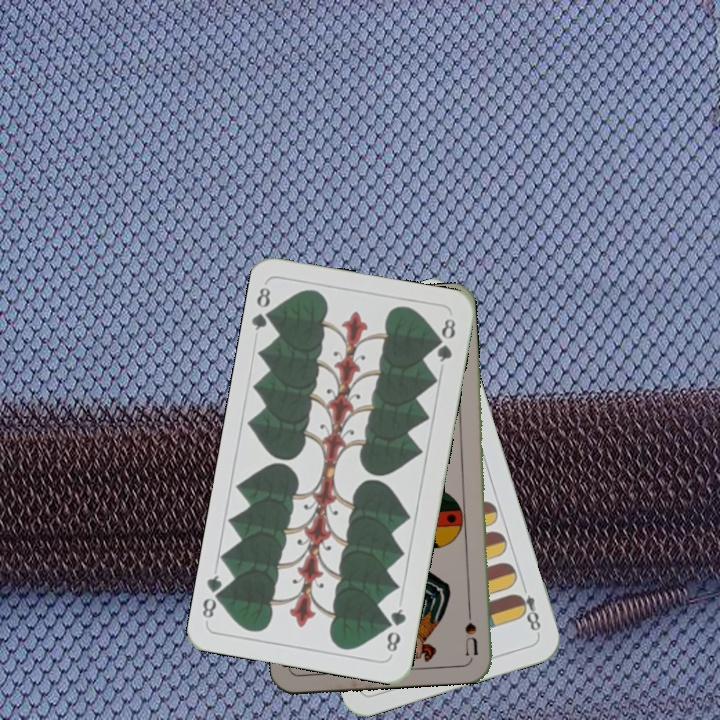E8: (511, 579, 544, 637)
G8: (248, 283, 279, 333), (382, 604, 409, 655)
SU: (461, 597, 481, 657)
